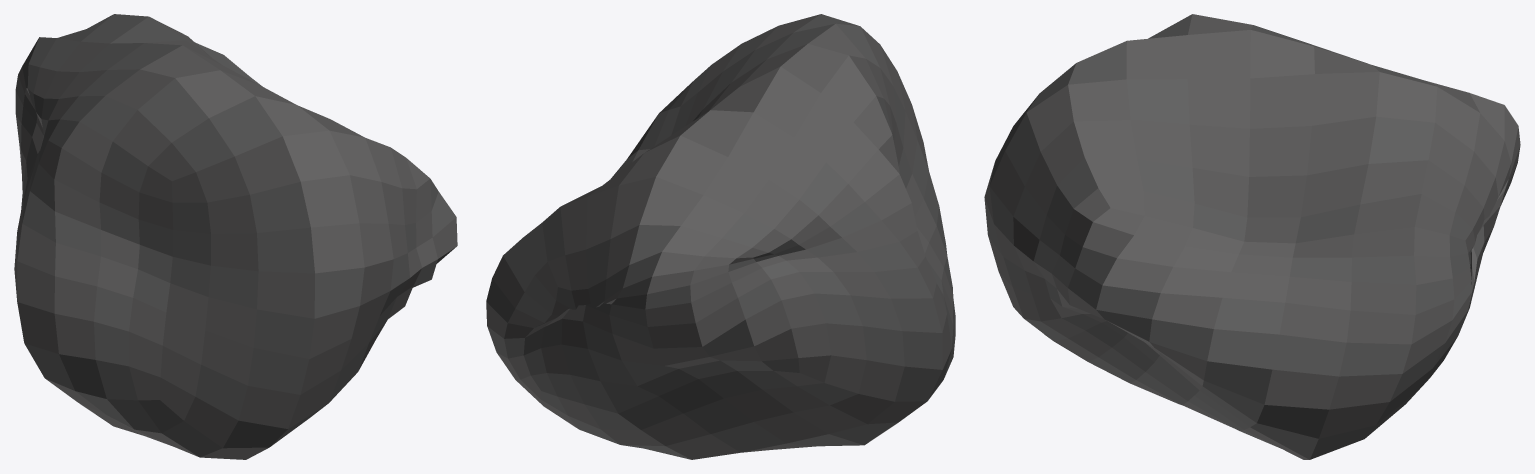
Rendered from rock4.fbx.
3 renders of one model, left to right at view 1: azimuth 30°, elevation 25°; view 2: azimuth 150°, elevation 25°; view 3: azimuth 270°, elevation 25°, orthographic. The views are drawn at different scales.
Visible parts, largest first — view 1: rock4; view 2: rock4; view 3: rock4.
Boxes of the visible parts, box(x1,y1,x2,y2) form: rock4: box(14, 14, 457, 459); rock4: box(486, 14, 955, 459); rock4: box(984, 14, 1520, 459).
Size of the model in its own units: 138 by 133 by 171.
